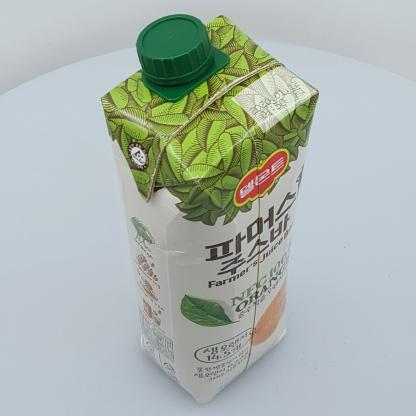------------1L: (101, 14, 319, 405)
